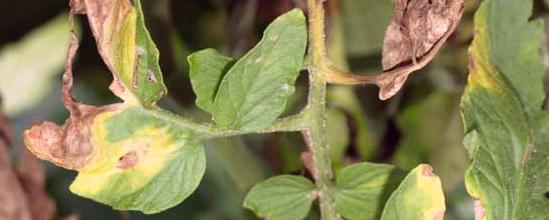Tomato Early blight leaf: (20, 103, 208, 220), (465, 0, 549, 220), (368, 152, 458, 220)
Tomato leaf: (202, 7, 315, 128)
